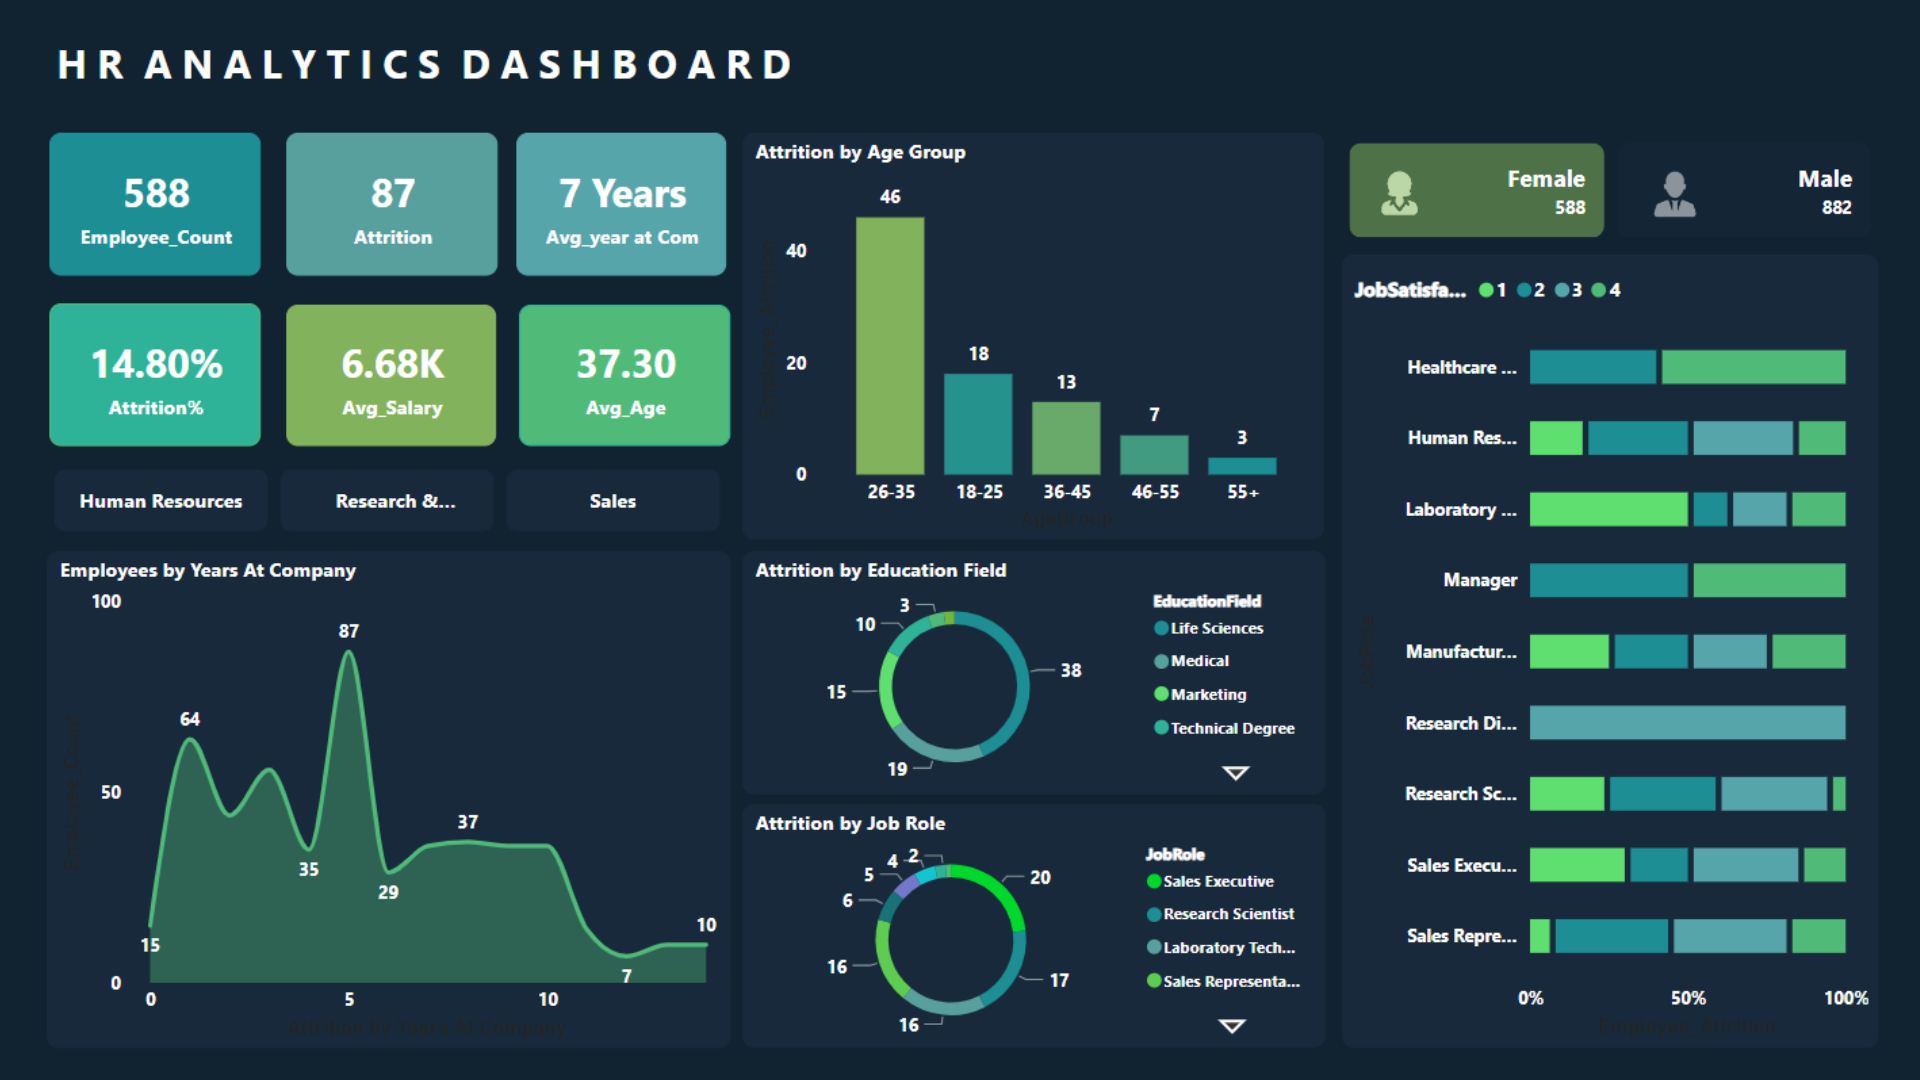

What the dashboard file says about the page in this screenshot:
{"tool":"powerbi","page":{"name":"Page 1","canvas":[1280,720],"ordinal":0},"visuals":[{"type":"image","box":[1106.4,97.5,40.8,50.1],"z":0},{"type":"image","box":[918,101.2,39.9,42.7],"z":1000},{"type":"card","fields":{"Values":["New Measures.Employee_Attrition"]},"box":[174.6,80.8,144.7,97.8],"z":2000},{"type":"card","fields":{"Values":["New Measures.Employee_Count"]},"box":[12,80.8,144.7,97.8],"z":3000},{"type":"card","fields":{"Values":["New Measures.Years_With_Text"]},"box":[333.2,80.8,145.7,97.5],"z":4000},{"type":"card","fields":{"Values":["New Measures.Attrition%"]},"box":[12,197.5,144.7,97.8],"z":5000},{"type":"card","fields":{"Values":["New Measures.Avg_Salary"]},"box":[174.6,198.5,143.7,96.8],"z":6000},{"type":"card","fields":{"Values":["New Measures.Avg_Age"]},"box":[334.2,198.5,144.7,96.8],"z":7000},{"type":"areaChart","title":"Employees by Years At Company","fields":{"Y":["New Measures.Employee_Count"],"Category":["HR_Analytics.YearsAtCompany"]},"box":[9.9,367.2,469.3,341.2],"z":8000},{"type":"donutChart","title":"Attrition by Education Field","fields":{"Y":["New Measures.Employee_Attrition"],"Category":["HR_Analytics.EducationField"]},"box":[487.3,367.6,400.1,167.1],"z":9000},{"type":"clusteredColumnChart","title":"Attrition by Age Group","fields":{"Category":["HR_Analytics.AgeGroup"],"Y":["New Measures.Employee_Attrition"]},"box":[487.3,80.8,399.1,279.4],"z":10000},{"type":"hundredPercentStackedBarChart","fields":{"Y":["New Measures.Employee_Attrition"],"Series":["HR_Analytics.JobSatisfaction"],"Category":["HR_Analytics.JobRole"]},"box":[898.5,164.3,368.5,543.9],"z":11000},{"type":"advancedSlicerVisual","fields":{"Values":["HR_Analytics.Gender"]},"box":[898.5,82.6,368.5,75.2],"z":12000},{"type":"advancedSlicerVisual","fields":{"Values":["HR_Analytics.Department"]},"box":[9.9,306.3,469.3,53.7],"z":13000},{"type":"textbox","box":[12.1,9.3,527.2,61.3],"z":14000},{"type":"donutChart","title":"Attrition by Job Role","fields":{"Y":["New Measures.Employee_Attrition"],"Category":["HR_Analytics.JobRole"]},"box":[487.3,541.1,400.1,167.1],"z":15000}]}

Visuals, with their boxes in screenshot pixels (x1, y1, x2, y2), scaled from the page's 1280x720 canvas onto the 1920x1080 screenshot:
image: 1660,146,1721,221
image: 1377,152,1437,216
card - New Measures.Employee_Attrition: 262,121,479,268
card - New Measures.Employee_Count: 18,121,235,268
card - New Measures.Years_With_Text: 500,121,718,267
card - New Measures.Attrition%: 18,296,235,443
card - New Measures.Avg_Salary: 262,298,477,443
card - New Measures.Avg_Age: 501,298,718,443
"Employees by Years At Company" areaChart: 15,551,719,1063
"Attrition by Education Field" donutChart: 731,551,1331,802
"Attrition by Age Group" clusteredColumnChart: 731,121,1330,540
hundredPercentStackedBarChart - New Measures.Employee_Attrition x HR_Analytics.JobSatisfaction: 1348,246,1900,1062
advancedSlicerVisual - HR_Analytics.Gender: 1348,124,1900,237
advancedSlicerVisual - HR_Analytics.Department: 15,459,719,540
textbox: 18,14,809,106
"Attrition by Job Role" donutChart: 731,812,1331,1062
